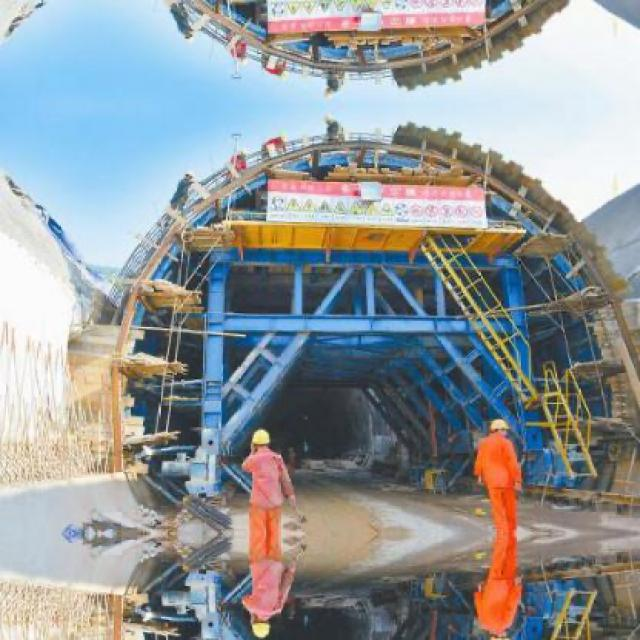helmet: (251, 426, 272, 454), (251, 614, 274, 638), (489, 416, 508, 438), (489, 629, 509, 639)
